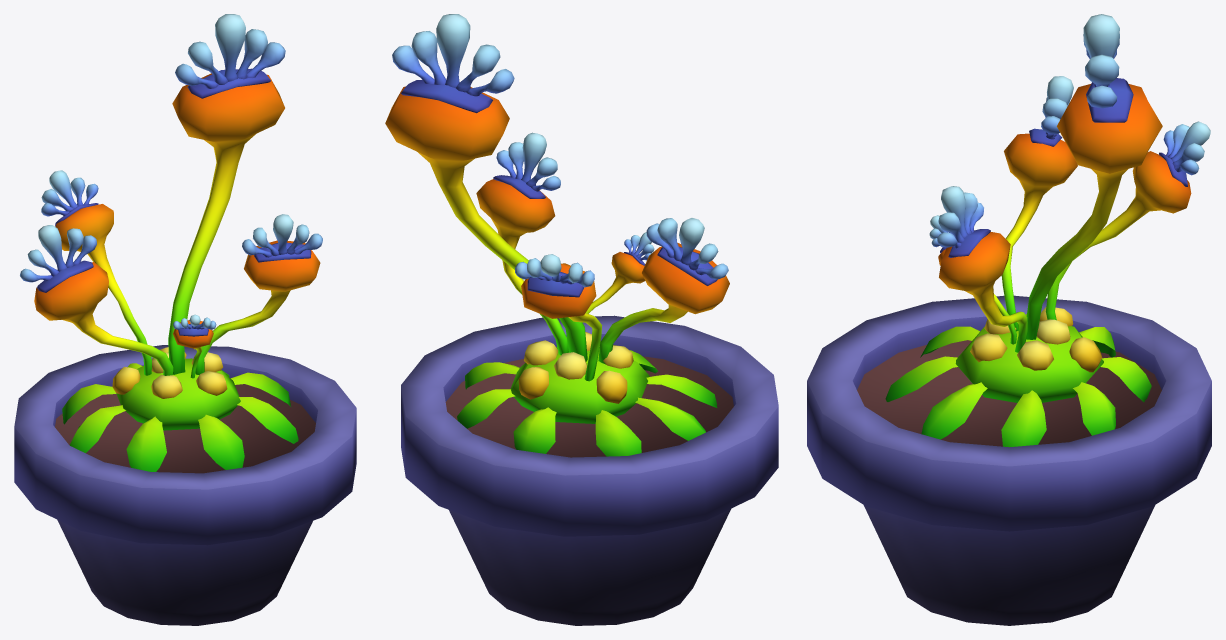
The model's file is wp_wPot_15.fbx.
3 renders of one model, left to right at view 1: azimuth 30°, elevation 25°; view 2: azimuth 150°, elevation 25°; view 3: azimuth 270°, elevation 25°, orthographic. The views are drawn at different scales.
Parts seen in each view (by area): view 1: w_pl15; view 2: w_pl15; view 3: w_pl15.
Part boxes in pixels (box(x1,y1,x2,y2)): w_pl15: box(14, 14, 356, 625); w_pl15: box(385, 14, 778, 625); w_pl15: box(807, 14, 1211, 625).
Size of the model in its own units: 105 by 175 by 105.
